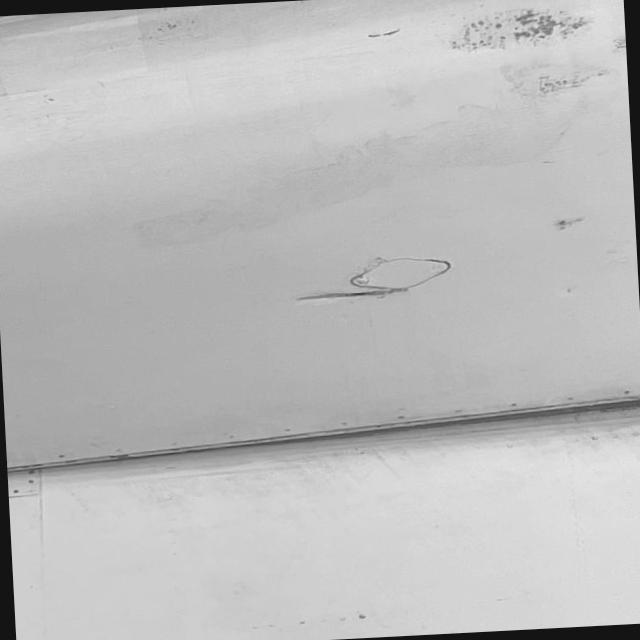crack: (294, 282, 407, 308)
